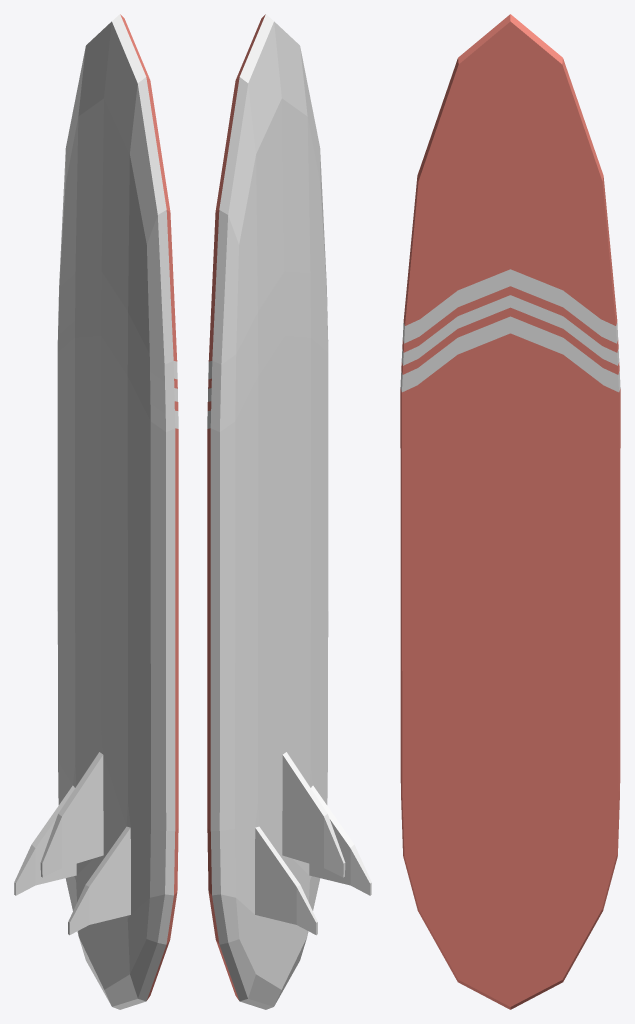
Rendered from Surfboard.glb.
3 renders of one model, left to right at view 1: azimuth 30°, elevation 25°; view 2: azimuth 150°, elevation 25°; view 3: azimuth 270°, elevation 25°, orthographic.
Visible parts, largest first — view 1: Surfboard_Cube.027; view 2: Surfboard_Cube.027; view 3: Surfboard_Cube.027.
Part boxes in pixels (<box>): Surfboard_Cube.027: <box>14,14,178,1009</box>; Surfboard_Cube.027: <box>207,14,371,1009</box>; Surfboard_Cube.027: <box>400,14,620,1009</box>.
Bounding box in the file's own units: 3.75 × 43.04 × 8.62.
